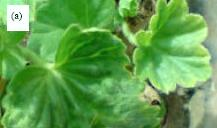Tomato leaf mosaic virus: (5, 26, 168, 128), (127, 3, 214, 92)
